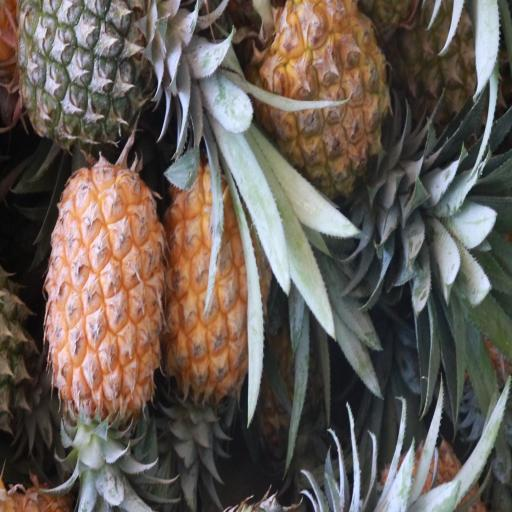------------------------------: (391, 0, 502, 152)
Pineapple - v8 v1: (48, 158, 162, 418), (167, 167, 271, 404), (258, 0, 389, 188)
